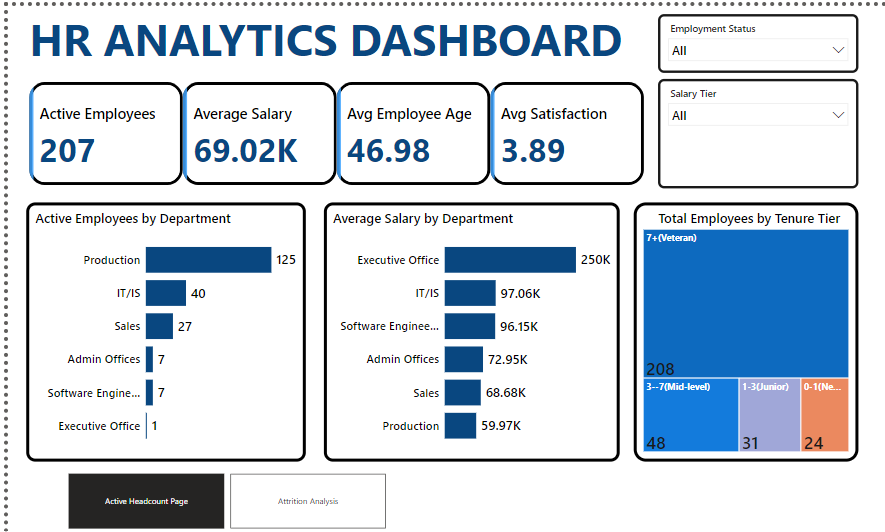

This screenshot's page, from the dashboard's own definition file:
{"tool":"powerbi","page":{"name":"Active Headcount Page","canvas":[1480,900],"ordinal":0},"visuals":[{"type":"textbox","box":[30,0,1023.3,120],"z":0},{"type":"cardVisual","fields":{"Data":["measure_table.Active Employees","measure_table.Average Salary","measure_table.Avg Employee Age","measure_table.Avg Satisfaction"]},"box":[30,120,1023.3,180],"z":1000},{"type":"clusteredBarChart","fields":{"Category":["Dim_Department.Department"],"Y":["measure_table.Active Employees"]},"box":[30,323.3,460,426.7],"z":2000},{"type":"clusteredBarChart","fields":{"Category":["Dim_Department.Department"],"Y":["measure_table.Average Salary"]},"box":[520,323.3,486.7,426.7],"z":3000},{"type":"textbox","box":[47.5,820,297.5,80],"z":4000},{"type":"treemap","title":"Total Employees by Tenure Tier","fields":{"Group":["Dim_Employees.TENURETIER_IF"],"Values":["measure_table.Total Employees"]},"box":[1030,323.3,370,426.7],"z":5000},{"type":"slicer","fields":{"Values":["Dim_Employees.EmploymentStatus"]},"box":[1070,12.5,330,96.7],"z":6000},{"type":"slicer","fields":{"Values":["Dim_Employees.SalaryTier"]},"box":[1070,120,330,180],"z":7000},{"type":"pageNavigator","box":[100,770,523.3,90],"z":8000}]}

Visuals, with their boxes in screenshot pixels (x1, y1, x2, y2), scaled from the page's 1480x900 canvas onto the 885x532 screenshot:
textbox: Rect(18, 0, 630, 71)
cardVisual - measure_table.Active Employees x measure_table.Average Salary: Rect(18, 71, 630, 177)
clusteredBarChart - Dim_Department.Department x measure_table.Active Employees: Rect(18, 191, 293, 443)
clusteredBarChart - Dim_Department.Department x measure_table.Average Salary: Rect(311, 191, 602, 443)
textbox: Rect(28, 485, 206, 531)
"Total Employees by Tenure Tier" treemap: Rect(616, 191, 837, 443)
slicer - Dim_Employees.EmploymentStatus: Rect(640, 7, 837, 65)
slicer - Dim_Employees.SalaryTier: Rect(640, 71, 837, 177)
pageNavigator: Rect(60, 455, 373, 508)
